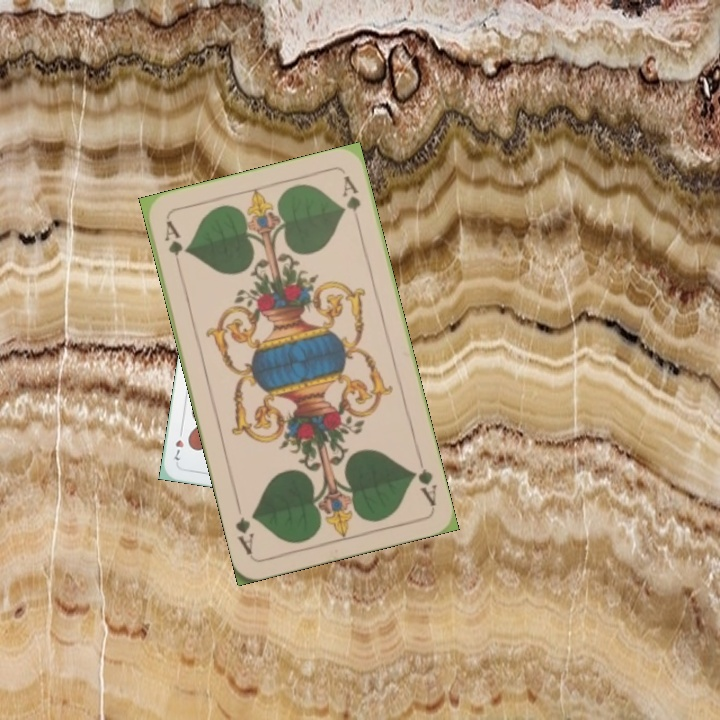GA: (408, 451, 440, 509), (160, 216, 186, 274)
